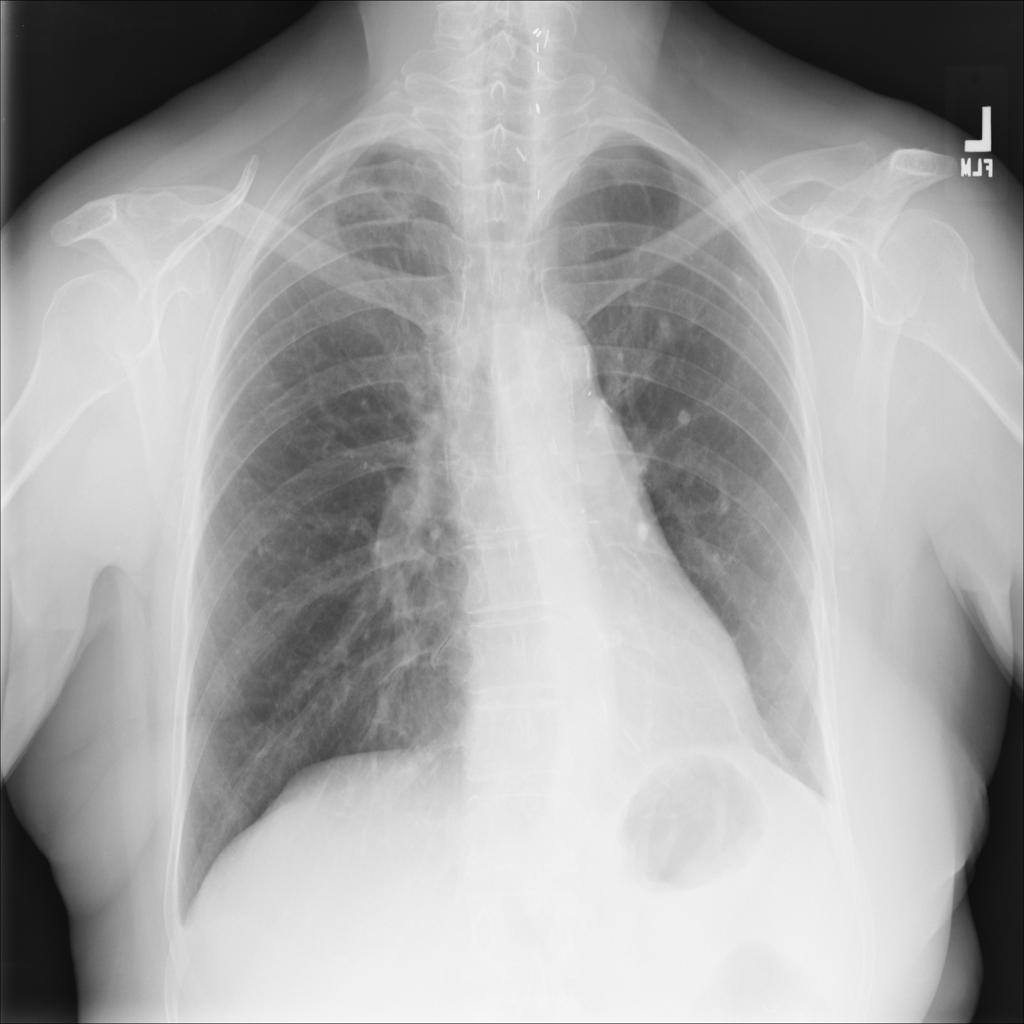nodule: (645, 299, 691, 354), (725, 261, 760, 301), (671, 395, 700, 440)
